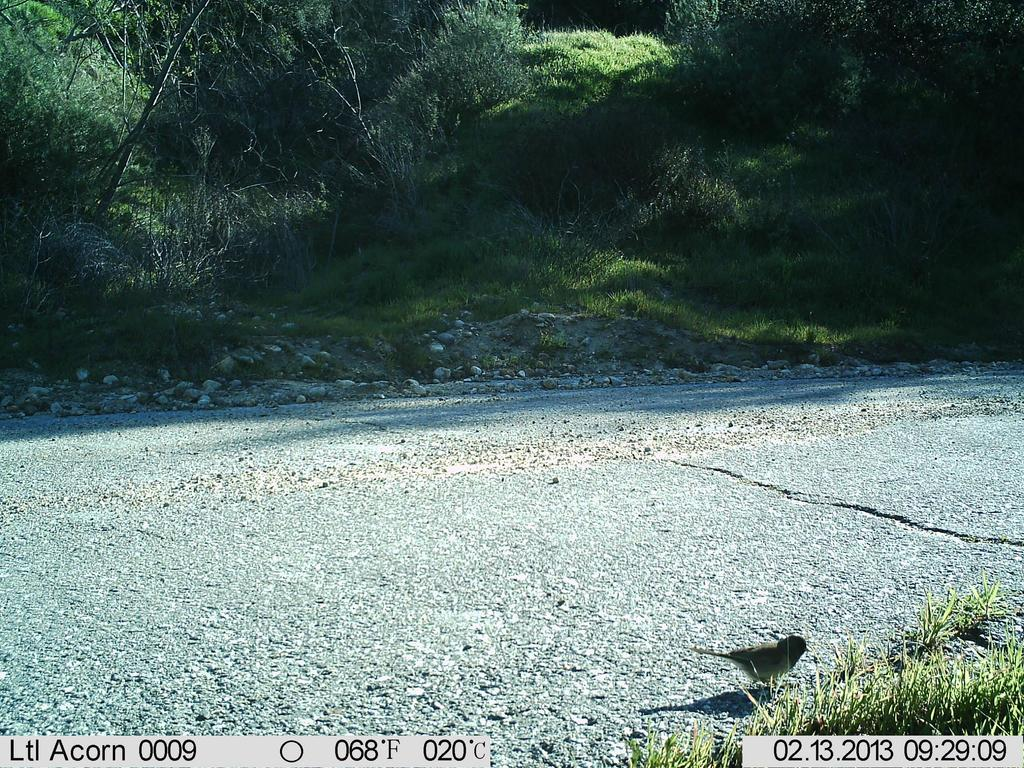bird: (688, 633, 827, 701)
